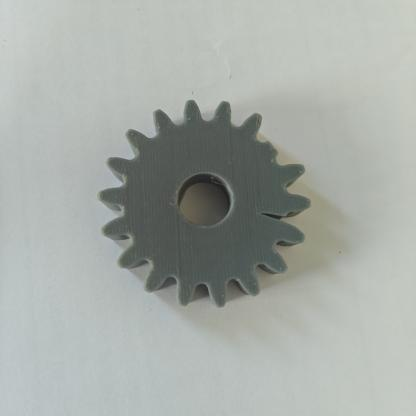defect: (237, 97, 320, 183), (240, 185, 318, 262)
gear: (83, 83, 329, 322)
